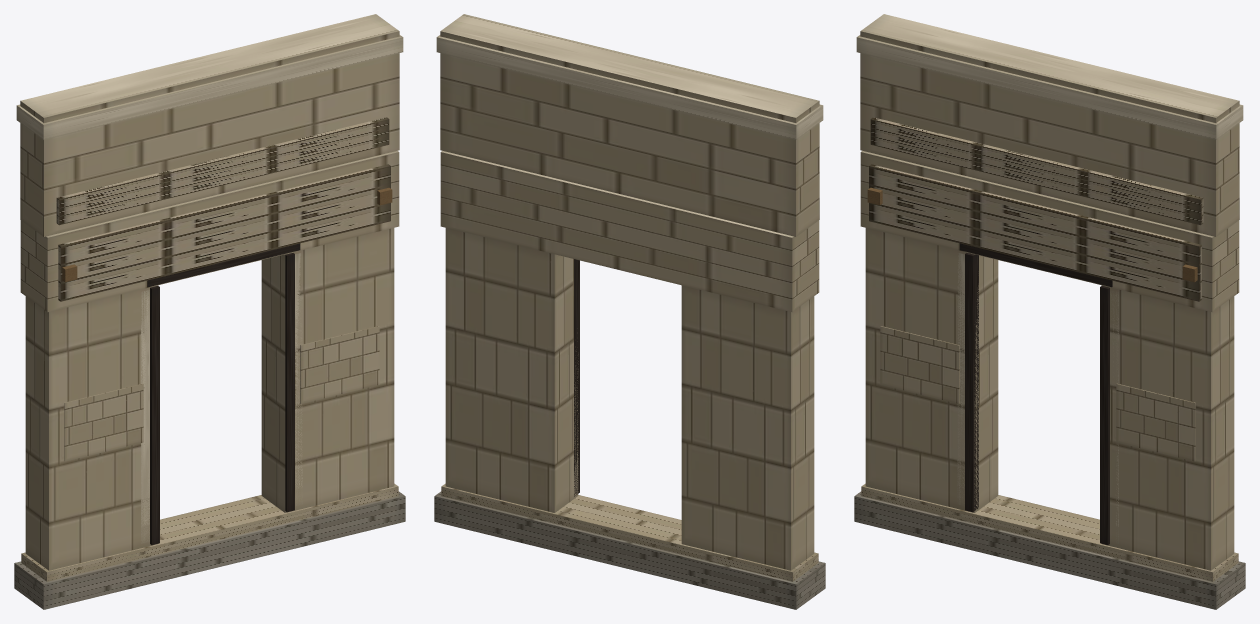
Rendered from ae_duel_stone_door_frame_lod1.glb.
The picture shows the model from 3 angles, left to right: view 1: azimuth 30°, elevation 25°; view 2: azimuth 150°, elevation 25°; view 3: azimuth 330°, elevation 25°; orthographic projection.
Visible parts, largest first — view 1: ae_duel_stone_door_frame_lod1; view 2: ae_duel_stone_door_frame_lod1; view 3: ae_duel_stone_door_frame_lod1.
Part boxes in pixels (x1,y1,x2,y2): ae_duel_stone_door_frame_lod1: [14, 14, 405, 609]; ae_duel_stone_door_frame_lod1: [434, 14, 825, 609]; ae_duel_stone_door_frame_lod1: [854, 14, 1245, 609].
Size of the model in its own units: 3.56 by 4.6 by 0.57.
1 material, 1 textured.
